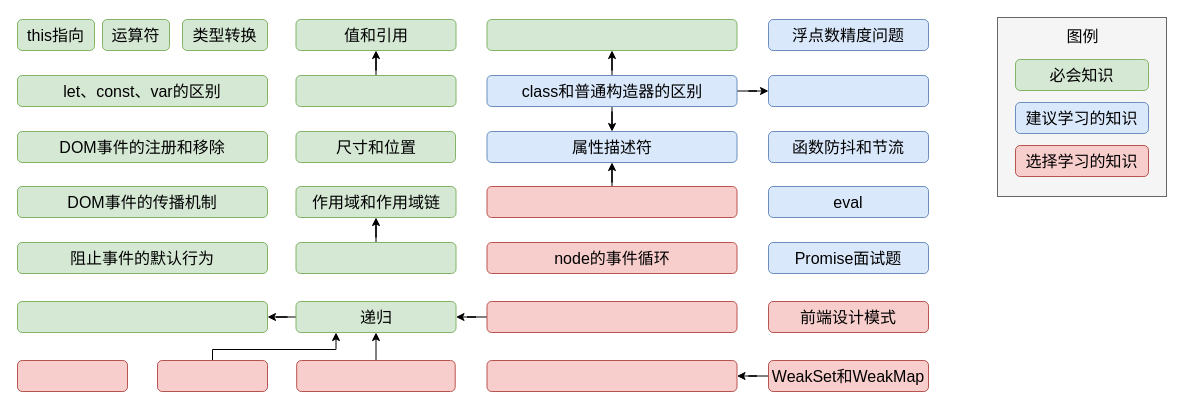
Some shapes in this 1184 by 409 pixel diagram are drawn without their labels. The centre of each missing label's shape, as x and y in pixels:
"Generator" belongs at (212,376).
"Proxy" belongs at (611,202).
"严格模式" belongs at (848,90).
"函数科里化" belongs at (72,376).
"包装类型" belongs at (375,90).
"原型和原型链" belongs at (611,34).
"垃圾回收与内存泄露" belongs at (611,376).
"手写Promise" belongs at (611,316).
"执行栈和执行上下文" belongs at (142,316).
"深浅拷贝" belongs at (375,376).
"闭包" belongs at (375,258).
